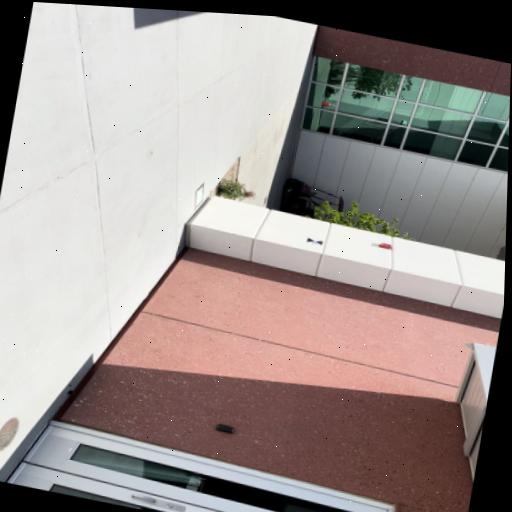target6: (306, 238, 323, 246)
